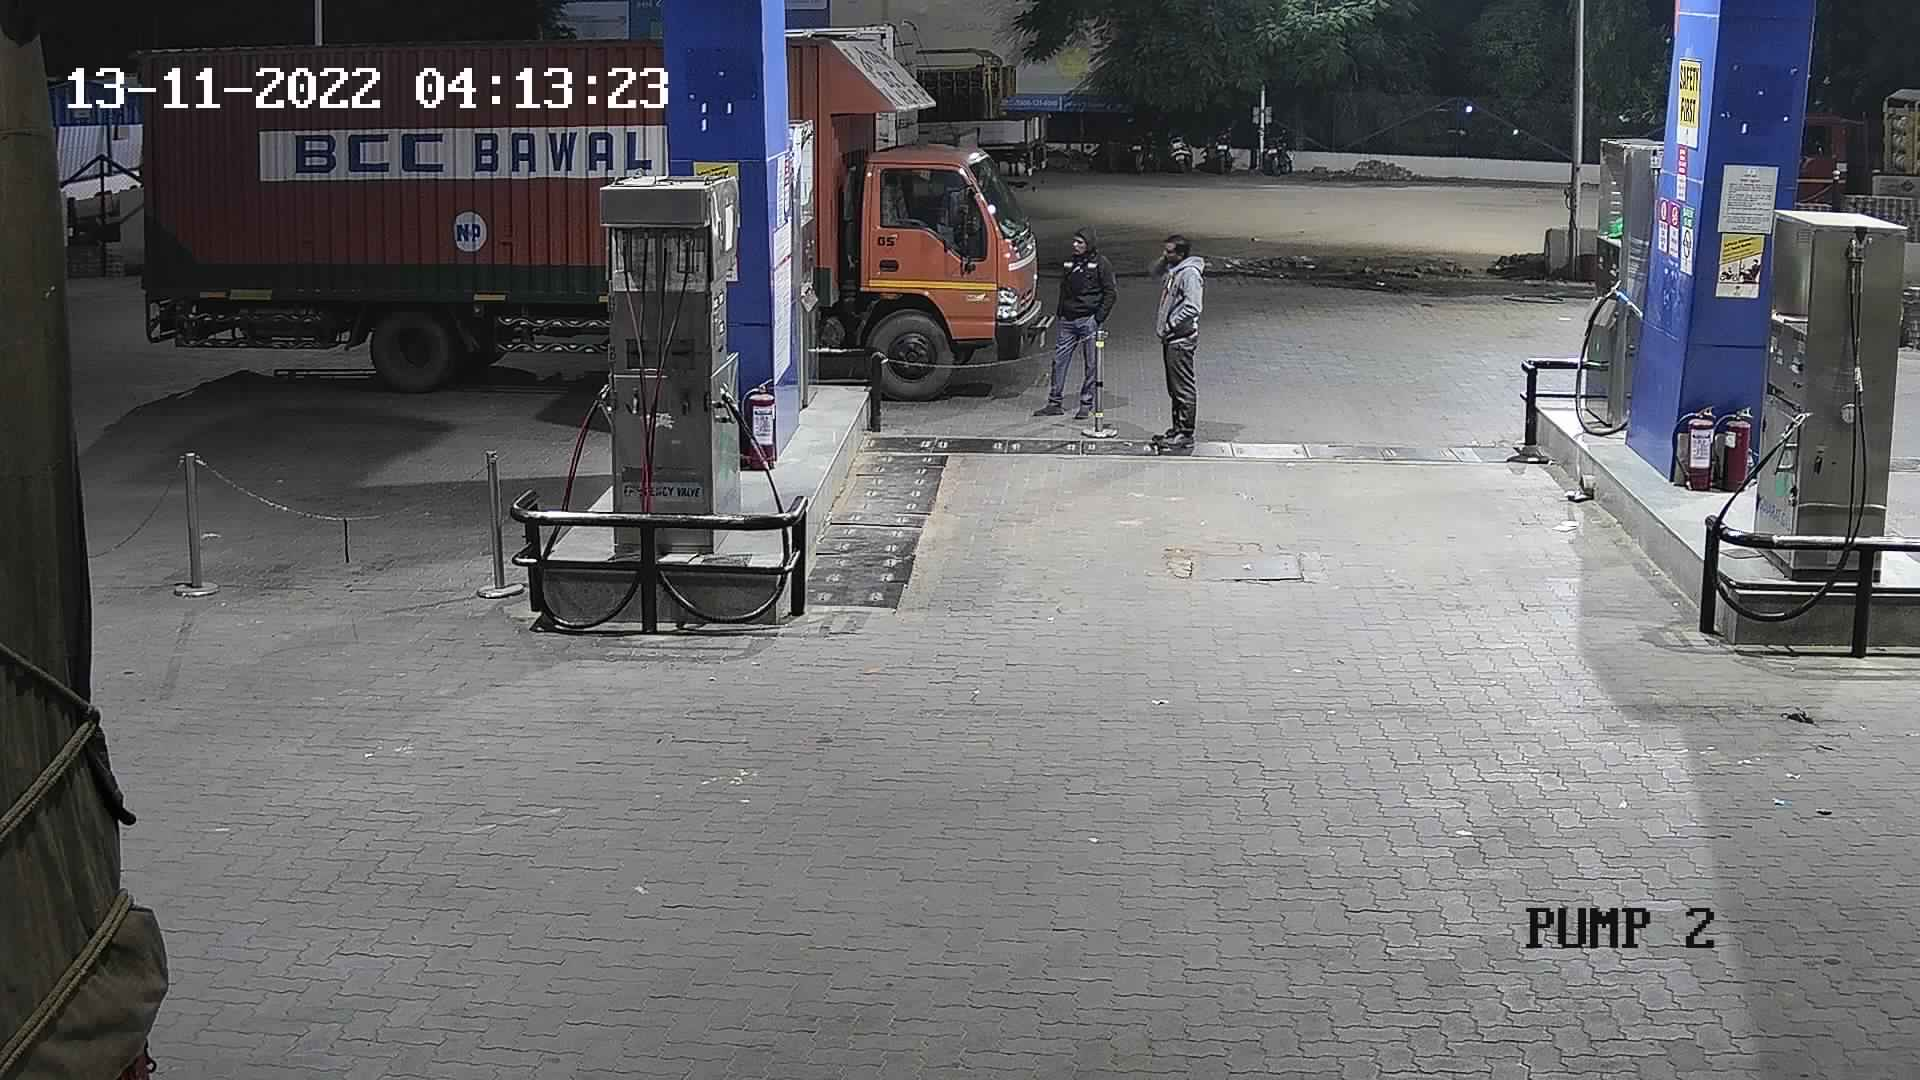Bike: (1113, 121, 1168, 182), (1159, 117, 1204, 175), (1255, 120, 1295, 185), (1204, 117, 1237, 177)
HMV: (123, 13, 673, 400), (1, 3, 189, 1076), (895, 33, 1059, 193), (1780, 66, 1917, 229)
